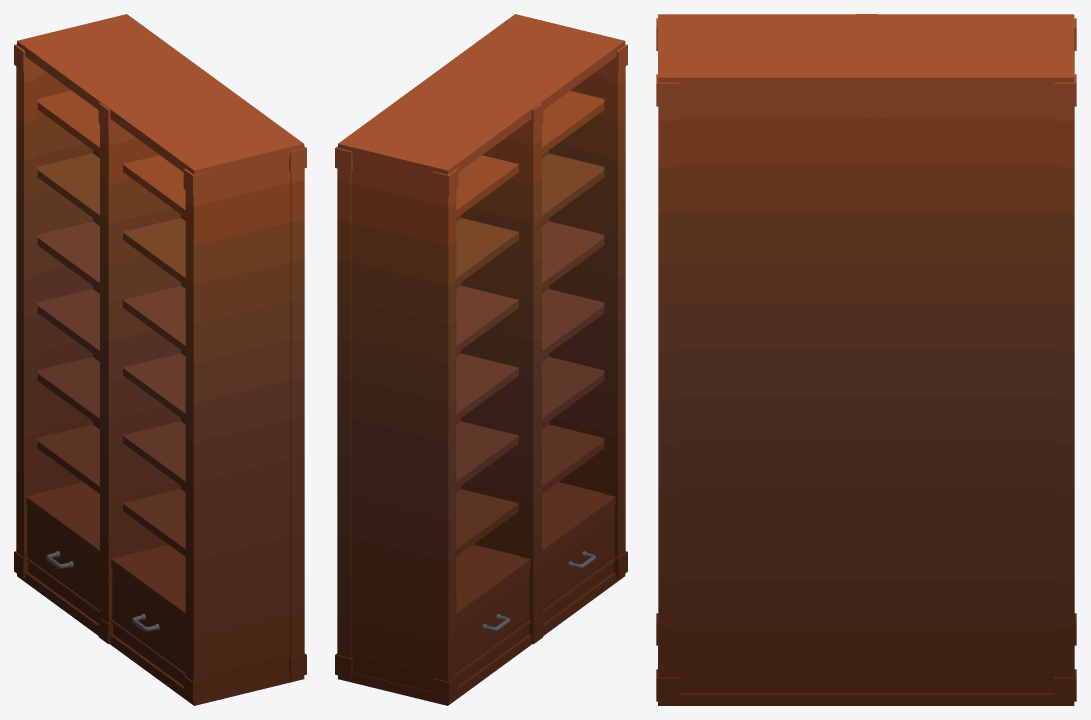
The model's file is bookshelf.fbx.
3 views of the same model, side by side, from view 1: azimuth 30°, elevation 25°; view 2: azimuth 150°, elevation 25°; view 3: azimuth 270°, elevation 25° (orthographic). The views are drawn at different scales.
Visible parts, largest first — view 1: bookshelf; view 2: bookshelf; view 3: bookshelf.
Boxes of the visible parts, bbox=[...] form: bookshelf: bbox=[14, 14, 306, 705]; bookshelf: bbox=[335, 14, 627, 705]; bookshelf: bbox=[656, 14, 1076, 705].
Bounding box in the file's own units: 86.83 × 362 × 219.
